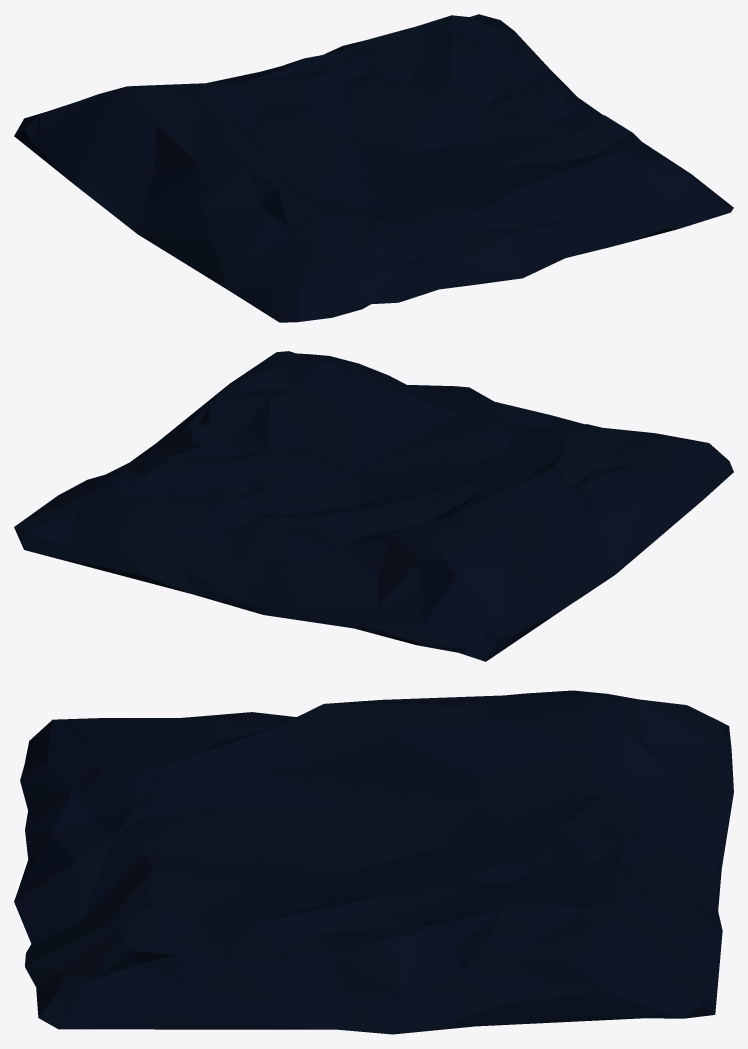
Rendered from CaveFloor2.fbx.
3 renders of one model, top to bottom at view 1: azimuth 30°, elevation 25°; view 2: azimuth 150°, elevation 25°; view 3: azimuth 270°, elevation 25°, orthographic. The views are drawn at different scales.
Parts seen in each view (by area): view 1: Floor2; view 2: Floor2; view 3: Floor2.
Part boxes in pixels (x1,y1,x2,y2): Floor2: [14, 14, 733, 322]; Floor2: [14, 351, 733, 661]; Floor2: [14, 690, 733, 1034].
Bounding box in the file's own units: 710 × 98.48 × 701.
